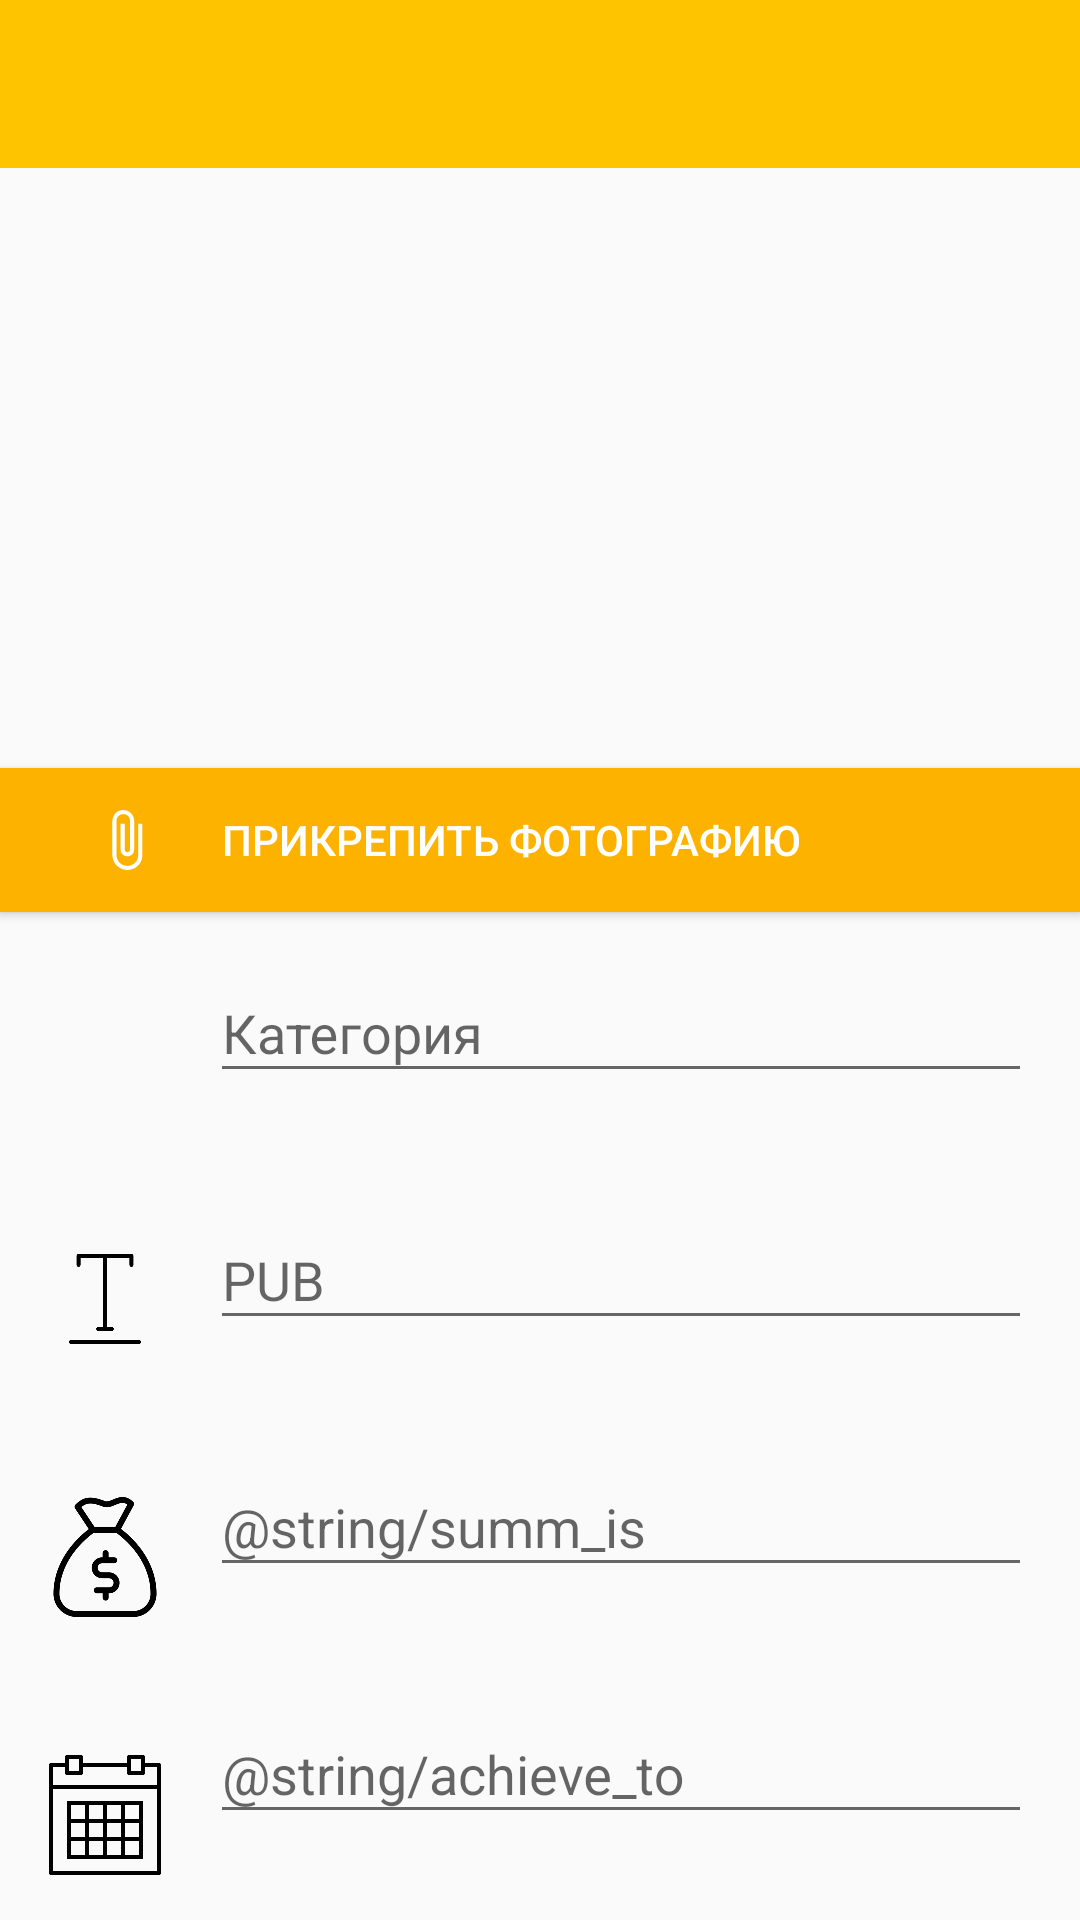

Where to tap for icons on this 1080*1920 app screen, as (x,y):
bag: (105,1557)
calendar: (105,1815)
